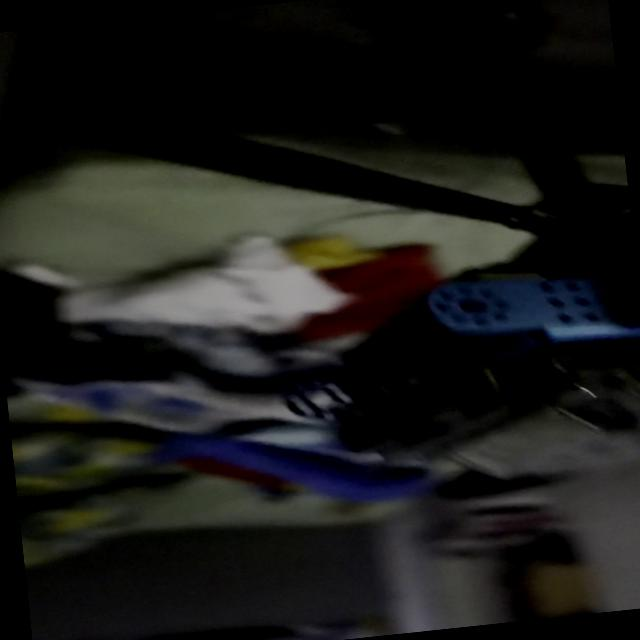mbot-detection: (269, 256, 640, 515)
